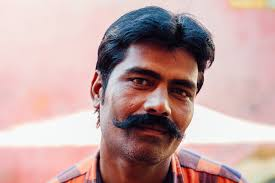Indian_Male: (106, 37, 202, 164)
